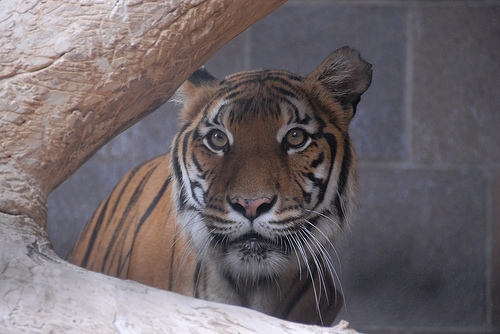Tigre: (128, 41, 401, 305)
